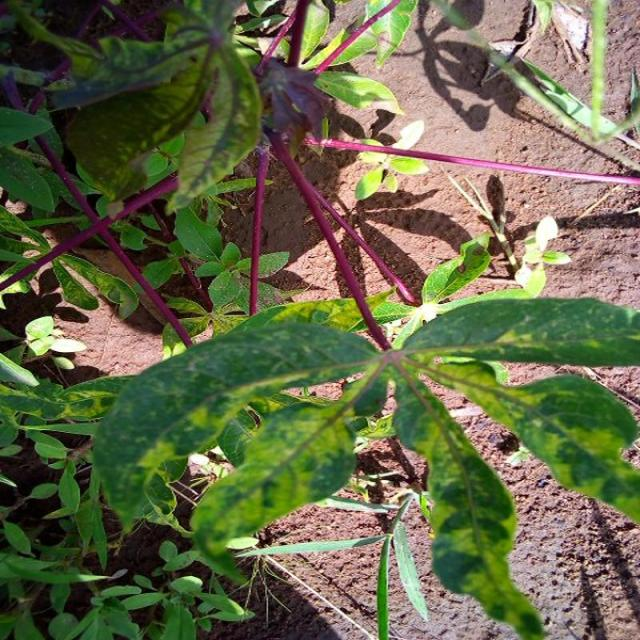cassava leaf: (91, 288, 638, 637), (90, 290, 410, 536), (52, 0, 263, 211)
